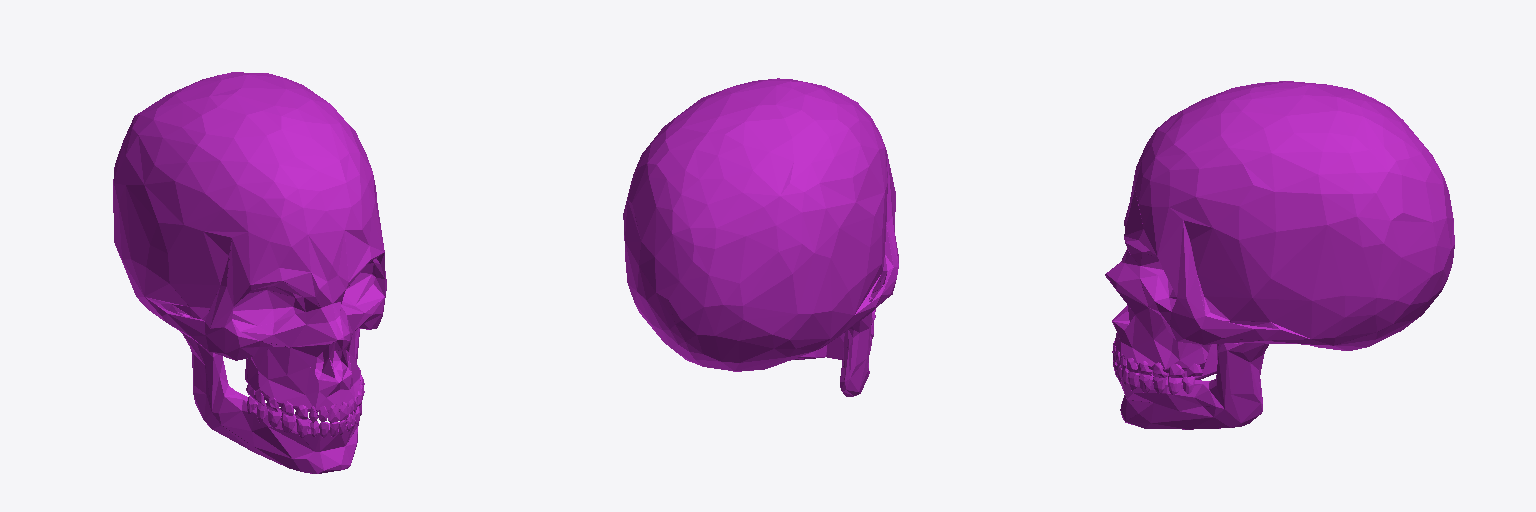
Rendered from finalobj.obj.
3 renders of one model, left to right at view 1: azimuth 30°, elevation 25°; view 2: azimuth 150°, elevation 25°; view 3: azimuth 270°, elevation 25°, orthographic.
Visible parts, largest first — view 1: Skull, jaw; view 2: Skull, jaw; view 3: Skull, jaw.
Boxes of the visible parts, box(x1,y1,x2,y2) form: Skull: box(113, 72, 386, 422); jaw: box(176, 312, 361, 473); Skull: box(623, 78, 898, 371); jaw: box(790, 300, 873, 396); Skull: box(1105, 81, 1454, 377); jaw: box(1113, 327, 1268, 429).
Bounding box in the file's own units: 212 × 312 × 308.